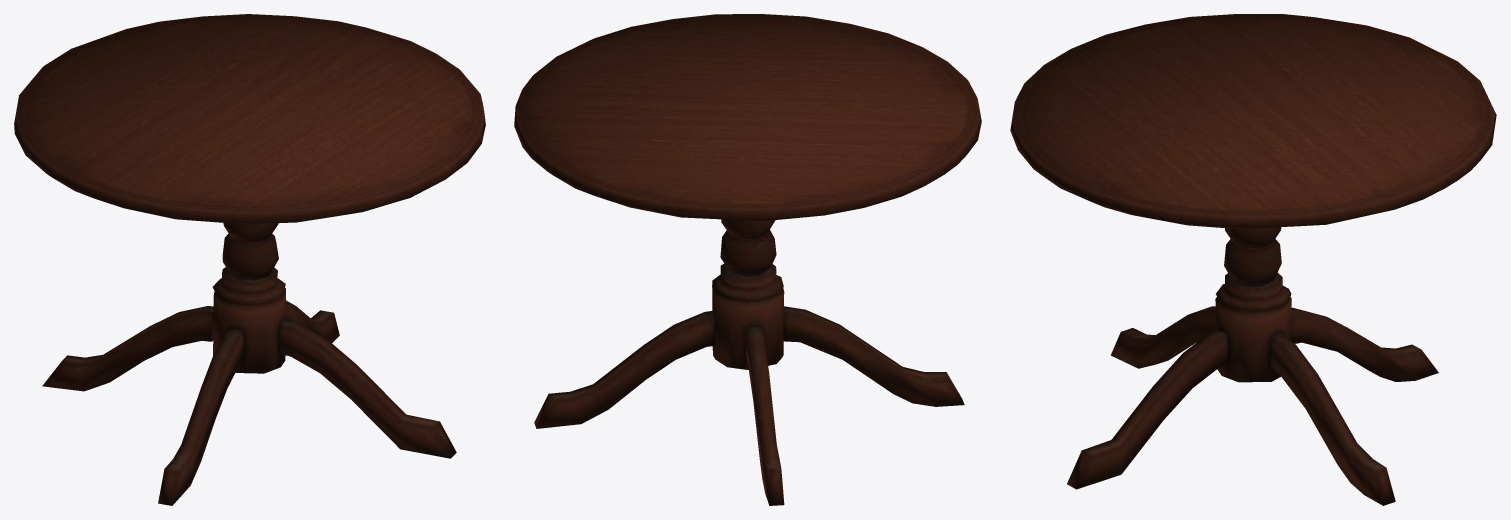
The model's file is rtable.glb.
The picture shows the model from 3 angles, left to right: view 1: azimuth 30°, elevation 25°; view 2: azimuth 150°, elevation 25°; view 3: azimuth 270°, elevation 25°; orthographic projection. The views are drawn at different scales.
Parts seen in each view (by area): view 1: lo; view 2: lo; view 3: lo.
Part boxes in pixels (bbox=[...]): lo: bbox=[14, 14, 485, 505]; lo: bbox=[514, 14, 981, 505]; lo: bbox=[1010, 14, 1496, 505].
Bounding box in the file's own units: 1.4 × 0.9996 × 1.4.
1 material, 1 textured.
